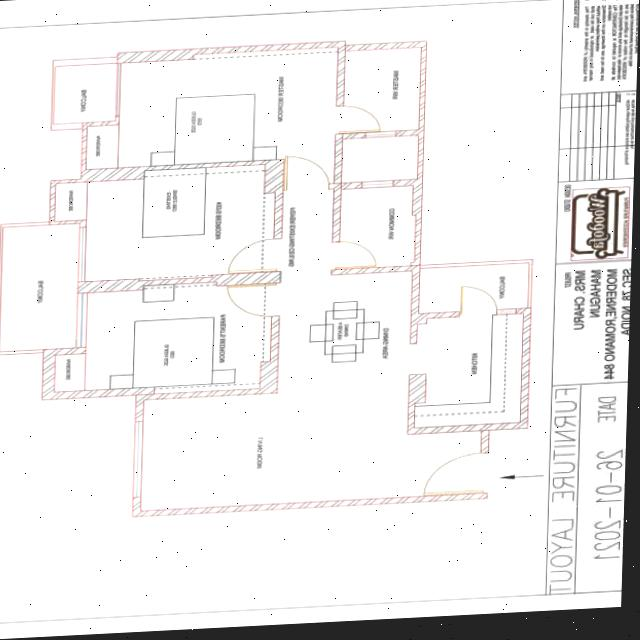room: (134, 375, 486, 512), (112, 46, 344, 166), (52, 162, 280, 283), (51, 284, 265, 390), (267, 269, 421, 387), (414, 308, 523, 430), (0, 219, 80, 354), (343, 44, 421, 133), (338, 185, 414, 268), (417, 262, 530, 313), (51, 62, 120, 123), (339, 134, 420, 182), (85, 122, 118, 169)
